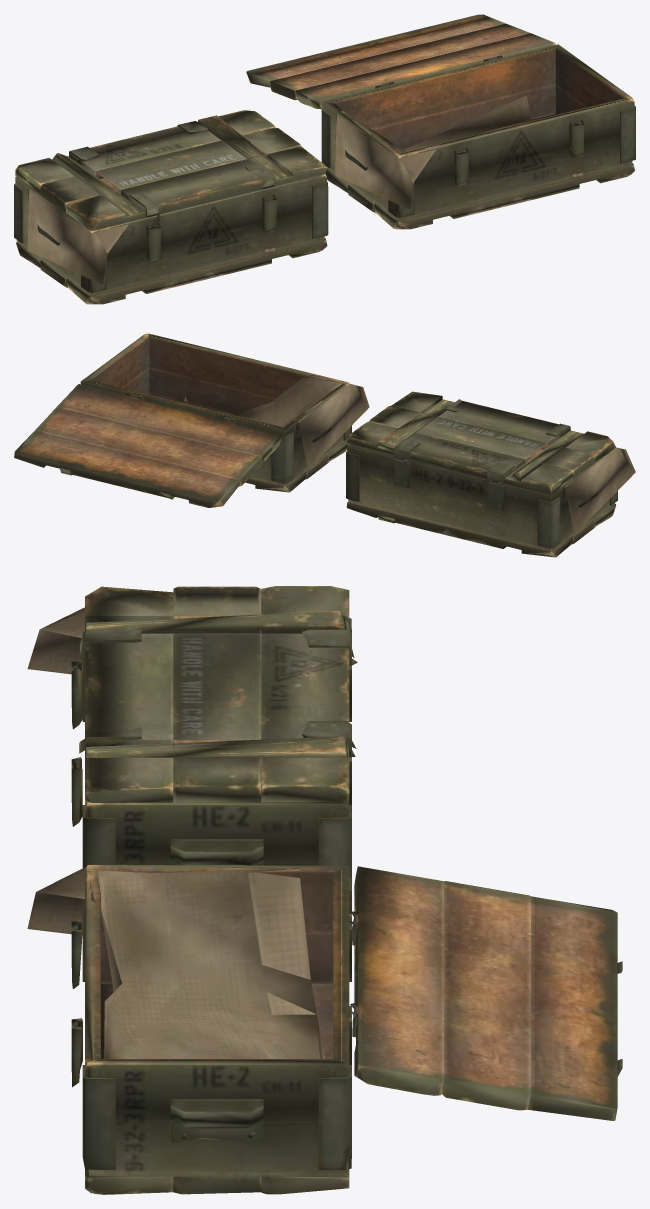
The model's file is old_military_crate.glb.
3 renders of one model, top to bottom at view 1: azimuth 30°, elevation 25°; view 2: azimuth 150°, elevation 25°; view 3: azimuth 270°, elevation 25°, orthographic. The views are drawn at different scales.
Visible parts, largest first — view 1: old_military_crate_lid_a; view 2: old_military_crate_lid_a; view 3: old_military_crate_lid_a.
Part boxes in pixels (x1,y1,x2,y2): old_military_crate_lid_a: (14, 14, 635, 304); old_military_crate_lid_a: (14, 333, 635, 557); old_military_crate_lid_a: (27, 586, 622, 1194).
Size of the model in its own units: 1.8 by 0.2935 by 0.9676.
Materials: 1 (1 with a texture image).
